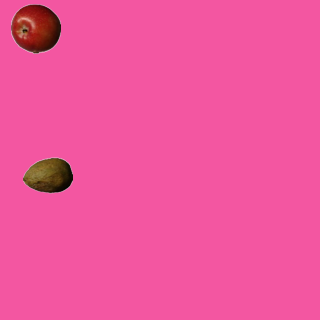Apple Braeburn: (10, 3, 60, 53)
Papaya: (22, 150, 72, 200)
